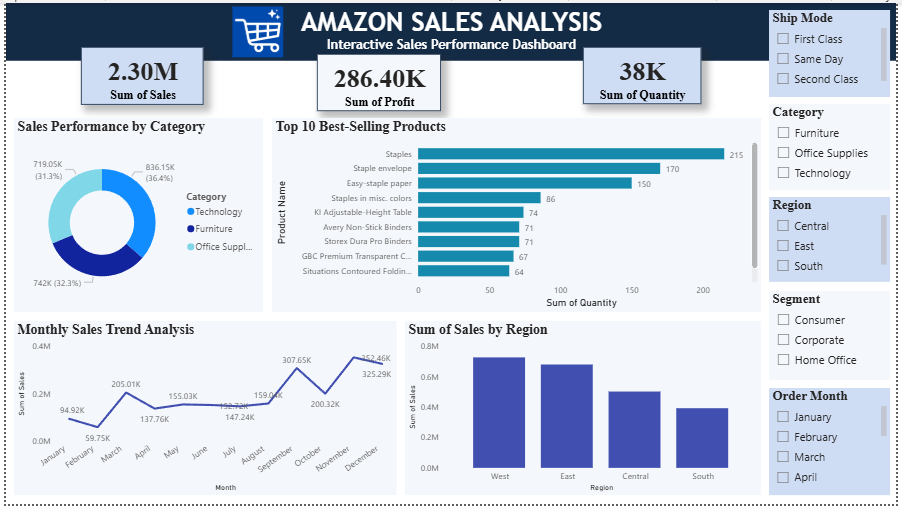

What the dashboard file says about the page in this screenshot:
{"tool":"powerbi","page":{"name":"Amazon Sales Analysis","canvas":[1280,720],"ordinal":1},"visuals":[{"type":"textbox","box":[0,0,1280.5,83.4],"z":0},{"type":"card","fields":{"Values":["Sum(Amazon sales dataset.Profit)"]},"box":[446.9,73.3,178.2,81.9],"z":1000},{"type":"card","fields":{"Values":["Sum(Amazon sales dataset.Sales)"]},"box":[107.3,62.9,176.3,82.8],"z":2000},{"type":"card","fields":{"Values":["Sum(Amazon sales dataset.Quantity)"]},"box":[829.2,63.2,169.6,81.9],"z":3000},{"type":"donutChart","title":"Sales Performance by Category","fields":{"Category":["Amazon sales dataset.Category"],"Y":["Sum(Amazon sales dataset.Sales)"]},"box":[11.5,165.3,357.8,278.8],"z":4000},{"type":"lineChart","title":"Monthly Sales Trend Analysis","fields":{"Y":["Sum(Amazon sales dataset.Sales)"],"Category":["Amazon sales dataset.Order Date.Variation.Date Hierarchy.Month"]},"box":[11.5,457,550.4,250.1],"z":5000},{"type":"clusteredBarChart","title":"Top 10 Best-Selling Products ","fields":{"Category":["Amazon sales dataset.Product Name"],"Y":["Sum(Amazon sales dataset.Quantity)"]},"box":[382.3,165.3,702.8,278.8],"z":6000},{"type":"clusteredColumnChart","fields":{"Category":["Amazon sales dataset.Region"],"Y":["Sum(Amazon sales dataset.Sales)"]},"box":[573.4,457,511.6,250.1],"z":7000},{"type":"slicer","title":"Category","fields":{"Values":["Amazon sales dataset.Category"]},"box":[1096.5,145.1,173.9,123.6],"z":8000},{"type":"slicer","title":"Region","fields":{"Values":["Amazon sales dataset.Region"]},"box":[1096.5,278.8,173.9,122.2],"z":9000},{"type":"slicer","title":"Segment","fields":{"Values":["Amazon sales dataset.Segment"]},"box":[1096.5,413.9,173.9,127.9],"z":10000},{"type":"slicer","title":"Order Month","fields":{"Values":["Amazon sales dataset.Order Date.Variation.Date Hierarchy.Month"]},"box":[1096.5,553.3,173.9,153.8],"z":11000},{"type":"slicer","title":"Ship Mode","fields":{"Values":["Amazon sales dataset.Ship Mode"]},"box":[1096.5,10.1,173.9,125],"z":12000},{"type":"image","box":[287.4,0,149.5,83.4],"z":13000}]}

Visuals, with their boxes in screenshot pixels (x1, y1, x2, y2), scaled from the page's 1280x720 canvas onto the 902x508 screenshot:
textbox: BBox(0, 0, 901, 59)
card - Sum(Amazon sales dataset.Profit): BBox(315, 52, 441, 110)
card - Sum(Amazon sales dataset.Sales): BBox(76, 44, 200, 103)
card - Sum(Amazon sales dataset.Quantity): BBox(584, 45, 704, 102)
"Sales Performance by Category" donutChart: BBox(8, 117, 260, 313)
"Monthly Sales Trend Analysis" lineChart: BBox(8, 322, 396, 499)
"Top 10 Best-Selling Products " clusteredBarChart: BBox(269, 117, 765, 313)
clusteredColumnChart - Amazon sales dataset.Region x Sum(Amazon sales dataset.Sales): BBox(404, 322, 765, 499)
"Category" slicer: BBox(773, 102, 895, 190)
"Region" slicer: BBox(773, 197, 895, 283)
"Segment" slicer: BBox(773, 292, 895, 382)
"Order Month" slicer: BBox(773, 390, 895, 499)
"Ship Mode" slicer: BBox(773, 7, 895, 95)
image: BBox(203, 0, 308, 59)
